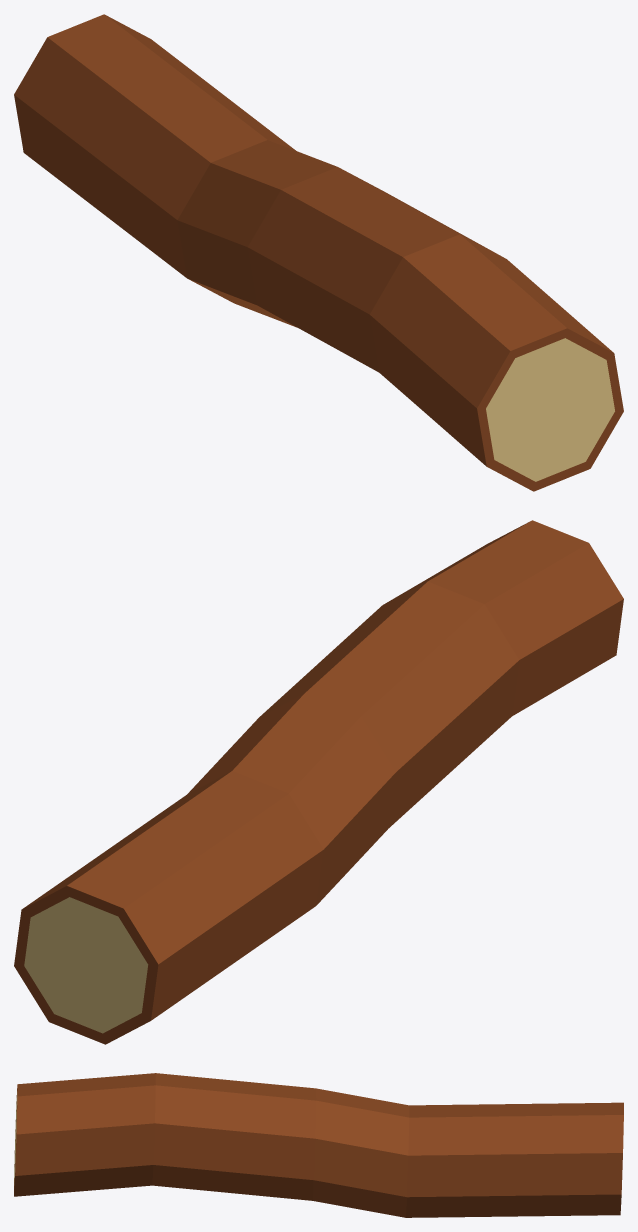
Rendered from Log4.fbx.
The picture shows the model from 3 angles, top to bottom: view 1: azimuth 30°, elevation 25°; view 2: azimuth 150°, elevation 25°; view 3: azimuth 270°, elevation 25°; orthographic projection. The views are drawn at different scales.
Parts seen in each view (by area): view 1: Log_4; view 2: Log_4; view 3: Log_4.
Boxes of the visible parts, x1,y1,x2,y2 form: Log_4: (14, 14, 623, 491); Log_4: (14, 520, 623, 1044); Log_4: (14, 1073, 623, 1217).
Size of the model in its own units: 199 by 256 by 1078.
